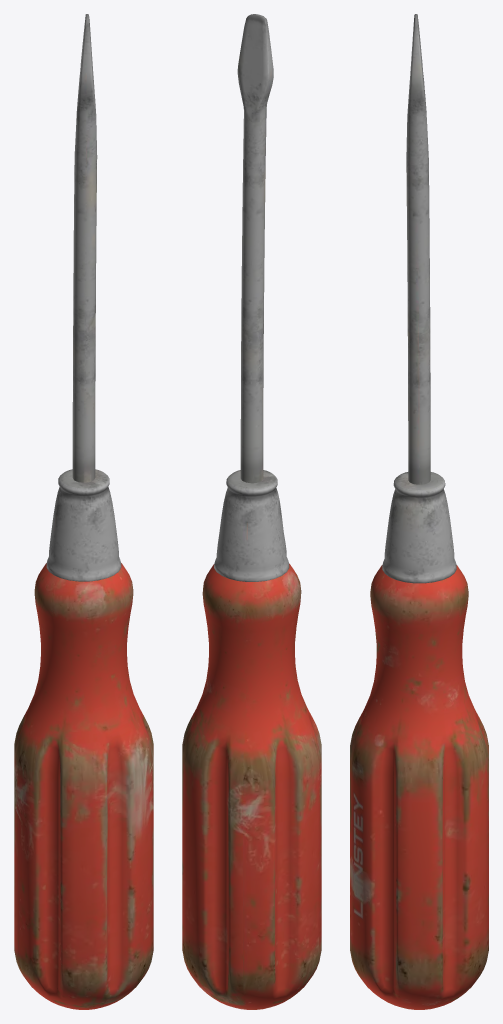
The model's file is screwdriver.glb.
The picture shows the model from 3 angles, left to right: view 1: azimuth 90°, elevation 25°; view 2: azimuth 150°, elevation 25°; view 3: azimuth 270°, elevation 25°; orthographic projection.
Visible parts, largest first — view 1: screwdriver; view 2: screwdriver; view 3: screwdriver.
Boxes of the visible parts, x1=… form: screwdriver: x1=14, y1=14, x2=153, y2=1009; screwdriver: x1=182, y1=14, x2=321, y2=1009; screwdriver: x1=350, y1=14, x2=488, y2=1009.
Bounding box in the file's own units: 0.0271 × 0.209 × 0.0267.
1 material, 1 textured.
